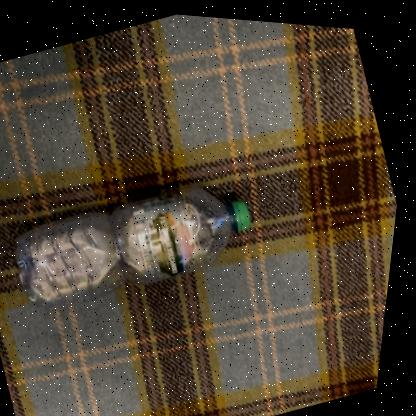Plastic: (21, 182, 254, 307)
